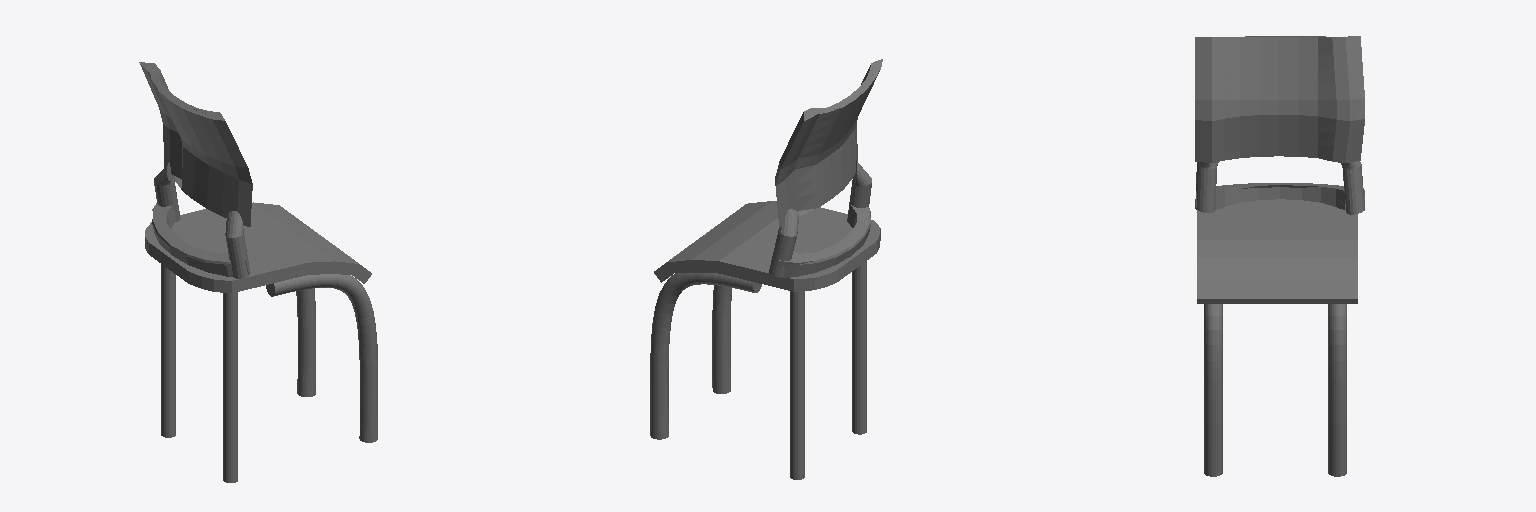
The model's file is Silla_B.obj.
3 views of the same model, side by side, from view 1: azimuth 30°, elevation 25°; view 2: azimuth 150°, elevation 25°; view 3: azimuth 270°, elevation 25° (orthographic).
Parts seen in each view (by area): view 1: Box006, Box004, Curve006, Cylinder005, Cylinder004, Box005, Curve008, Cylinder002, Cylinder003; view 2: Box006, Box004, Curve008, Cylinder004, Cylinder005, Box005, Curve006, Cylinder003, Cylinder002; view 3: Box004, Box006, Curve006, Curve008, Box005, Cylinder003, Cylinder002.
Part boxes in pixels (x1,y1,x2,y2): Box006: (145, 202, 371, 292); Box004: (139, 62, 252, 226); Curve006: (266, 274, 377, 442); Cylinder005: (223, 292, 237, 482); Cylinder004: (161, 264, 175, 437); Box005: (152, 203, 248, 276); Curve008: (296, 288, 315, 396); Cylinder002: (225, 211, 250, 278); Cylinder003: (154, 162, 180, 221); Box006: (654, 201, 880, 291); Box004: (775, 59, 882, 227); Curve008: (650, 273, 761, 439); Cylinder004: (790, 291, 804, 479); Cylinder005: (852, 261, 866, 434); Box005: (775, 205, 870, 277); Curve006: (712, 285, 731, 393); Cylinder003: (769, 209, 798, 276); Cylinder002: (847, 161, 871, 219); Box004: (1195, 36, 1364, 162); Box006: (1197, 199, 1357, 303); Curve006: (1204, 304, 1222, 476); Curve008: (1328, 304, 1346, 476); Box005: (1196, 183, 1364, 209); Cylinder003: (1341, 161, 1364, 214); Cylinder002: (1195, 162, 1218, 212).
Size of the model in its own units: 12.69 by 25.58 by 10.67.